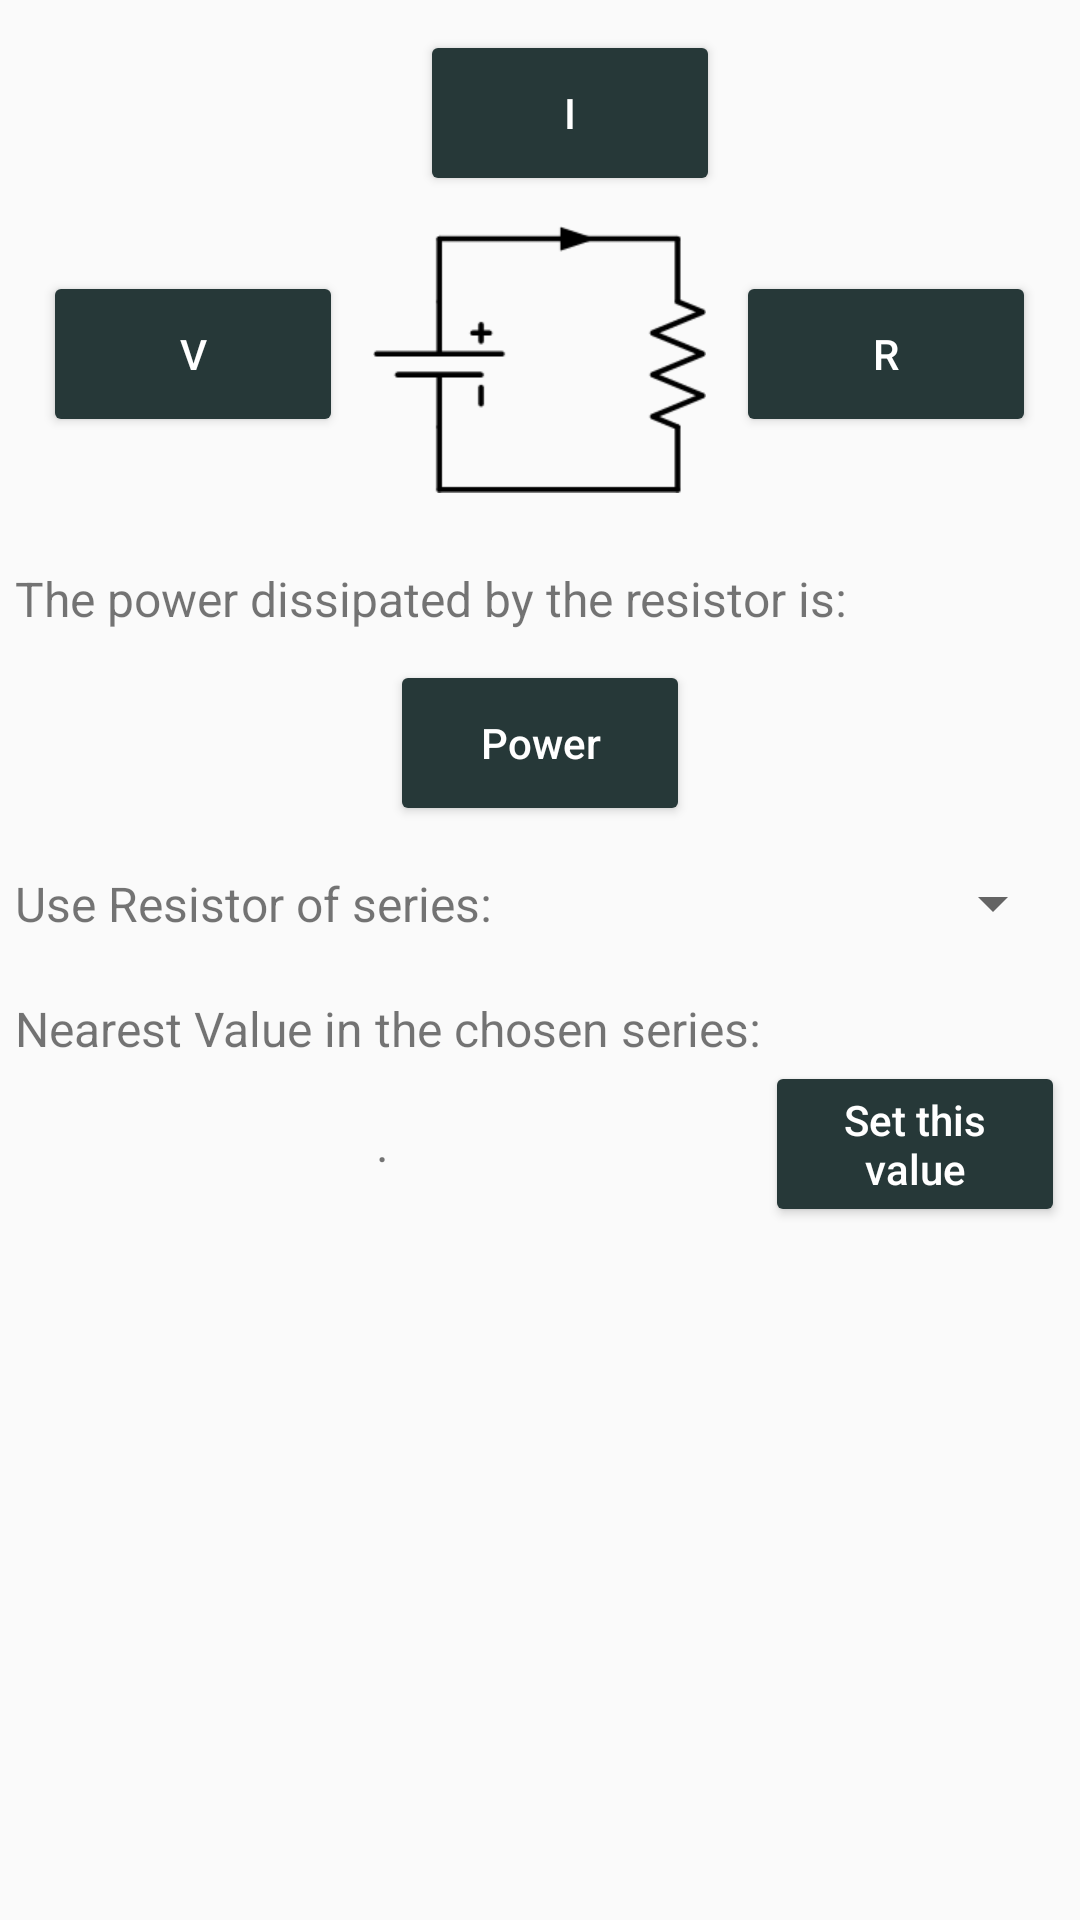

Where to tap for icons on this 1080*1920 app screen, as (x,y):
Circuit Image: (539,360)
